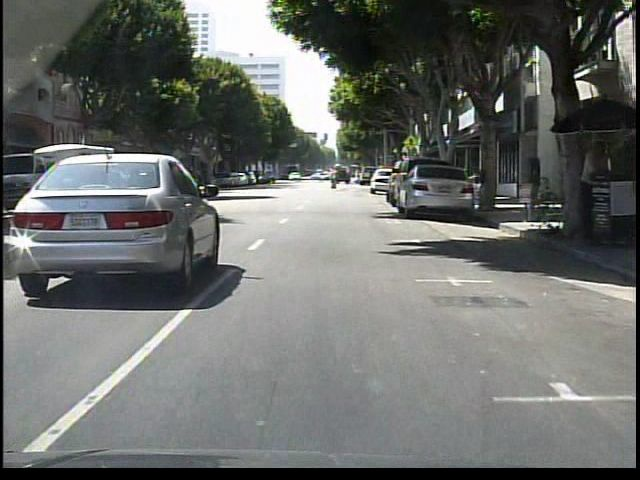person: (575, 139, 614, 238), (326, 168, 343, 192)
